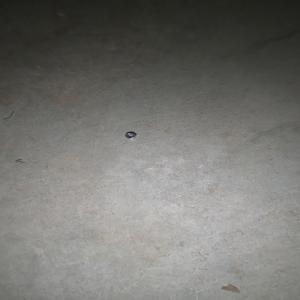Nut: (124, 132, 136, 139)
